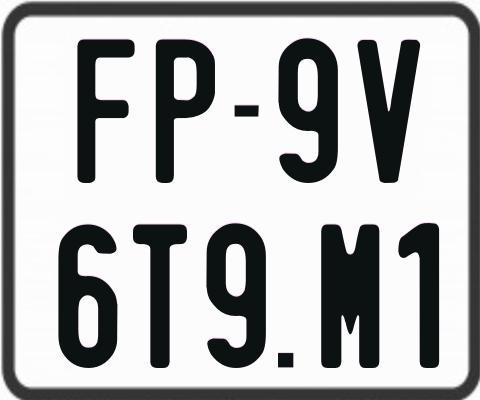1: (397, 223, 442, 369)
6: (55, 223, 120, 367)
9: (203, 220, 268, 371), (275, 37, 337, 185)
F: (77, 38, 137, 184)
M: (319, 221, 382, 368)
P: (153, 38, 215, 183)
T: (132, 223, 186, 368)
V: (355, 37, 418, 184)
